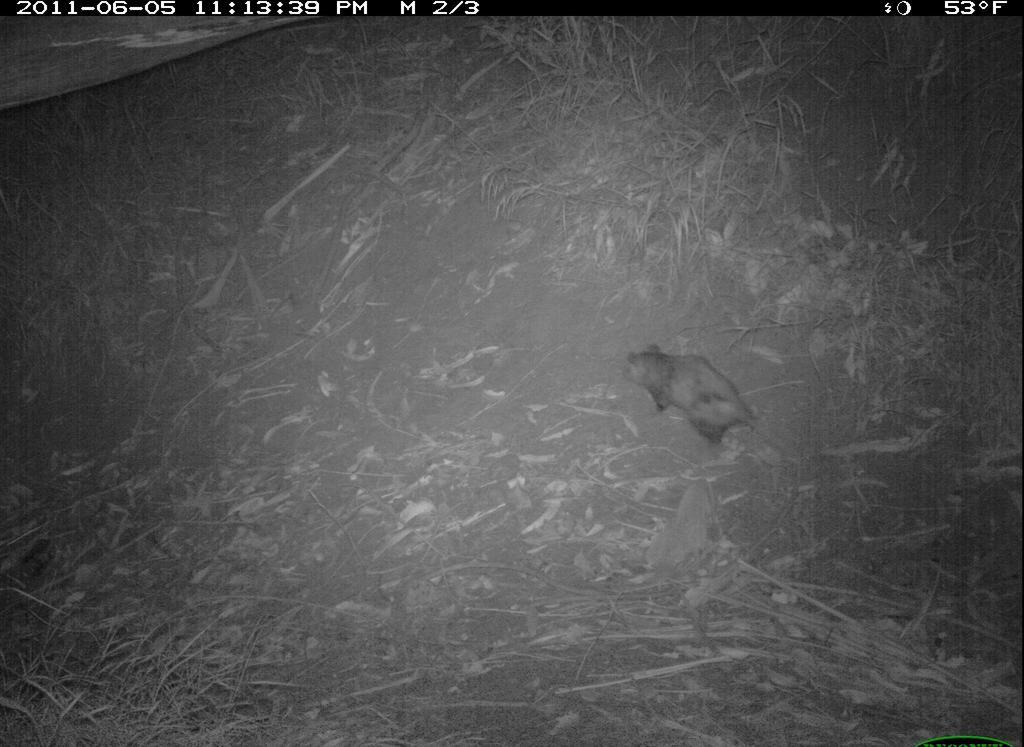opossum: (619, 342, 811, 465)
